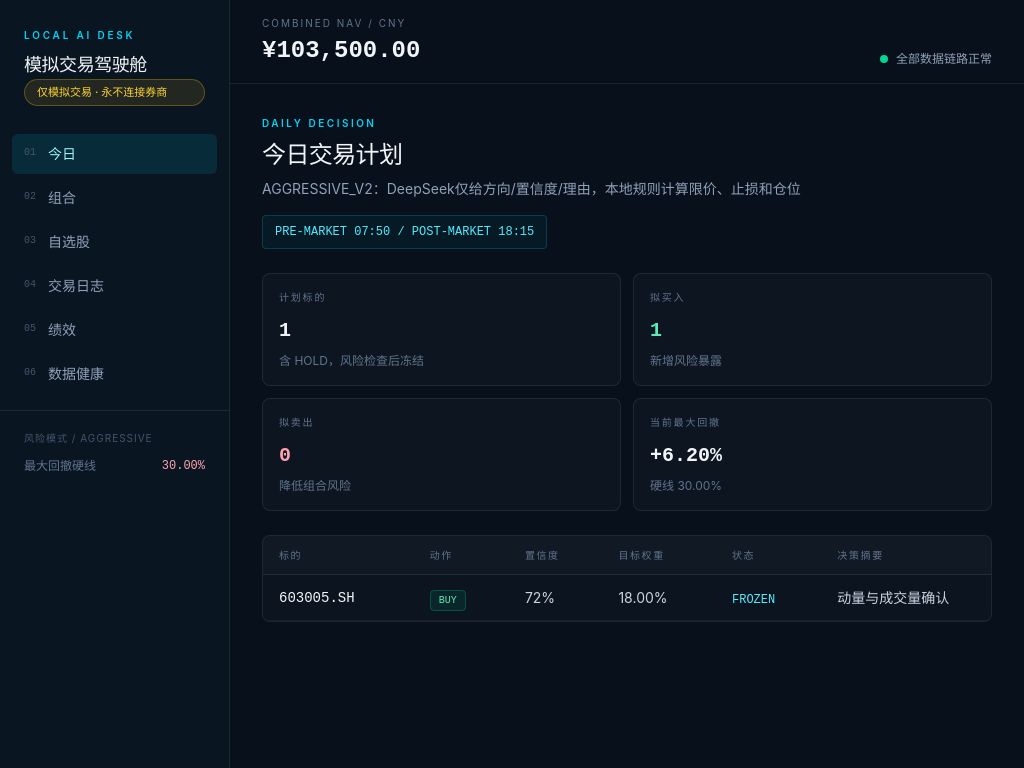
本地模拟交易仪表盘 › 明确模拟交易属性并可切换六个高信息密度视图
Expected: the heading "今日交易计划" is shown, [262, 140, 402, 169]
Expected: the text "AGGRESSIVE_V2：DeepSeek仅给方向/置信度/理由，本地规则计算限价、止损和仓位" is shown, [262, 179, 801, 199]
Click the button "02 组合".
click(114, 198)  # box [12, 178, 217, 218]
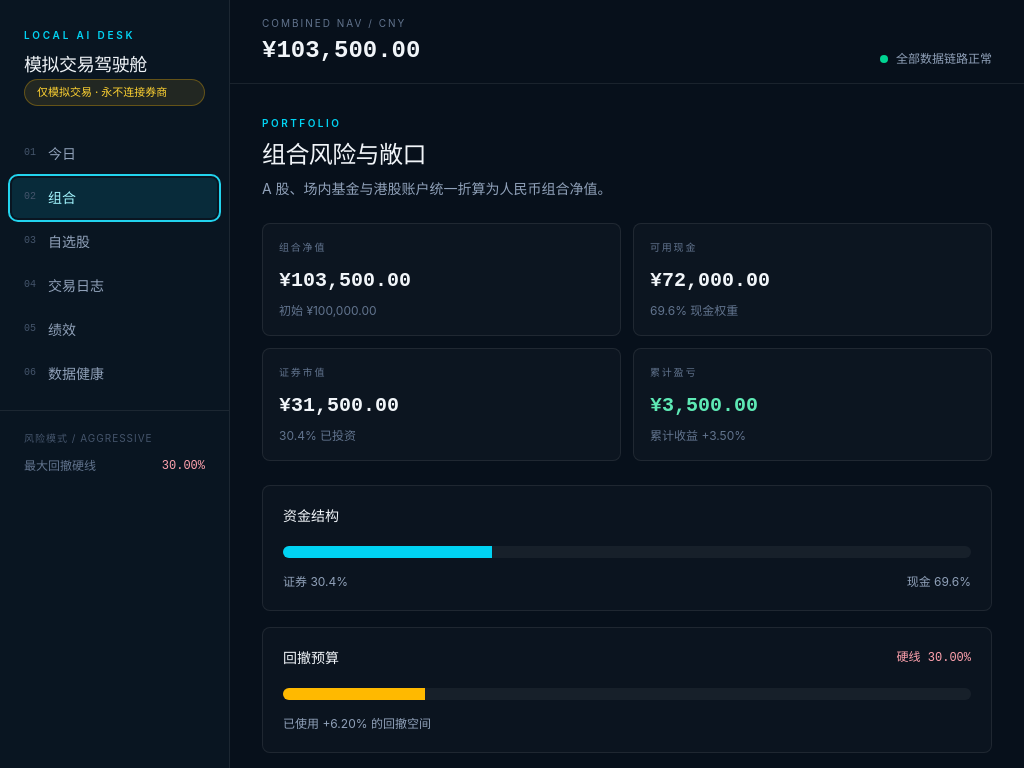
Expected: the heading "组合风险与敞口" is shown, [262, 140, 426, 169]
Click the button "03 自选股".
click(114, 242)  # box [12, 222, 217, 262]
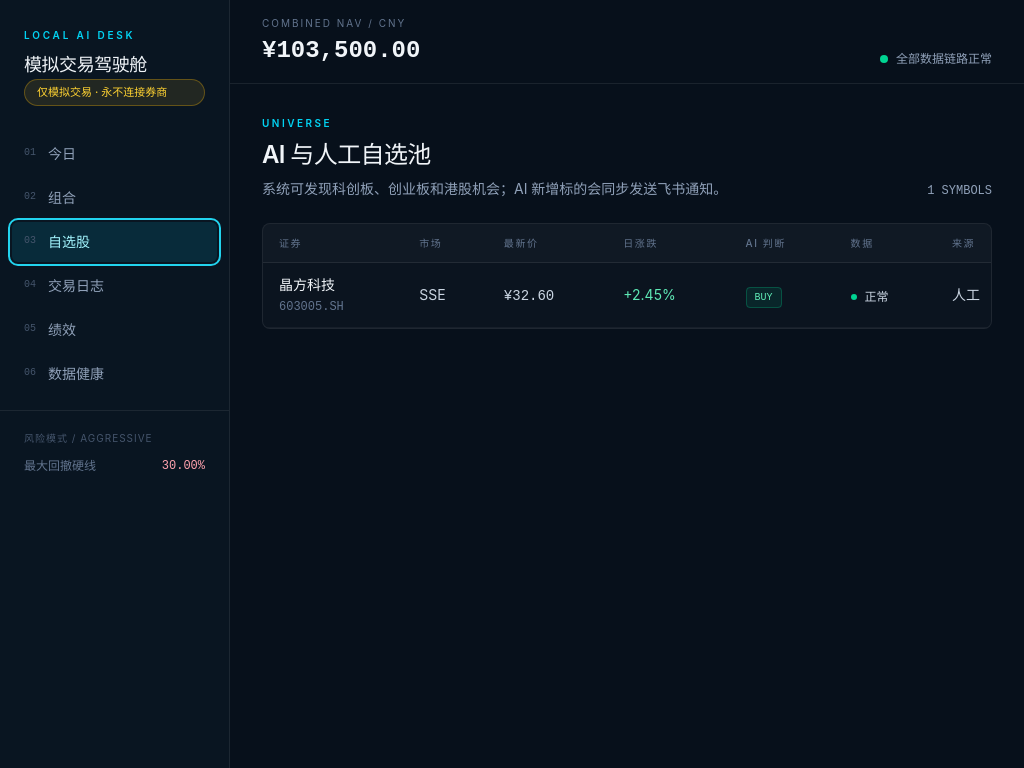
Expected: the heading "AI 与人工自选池" is shown, [262, 140, 431, 169]
Click the button "04 交易日志".
click(114, 286)  # box [12, 266, 217, 306]
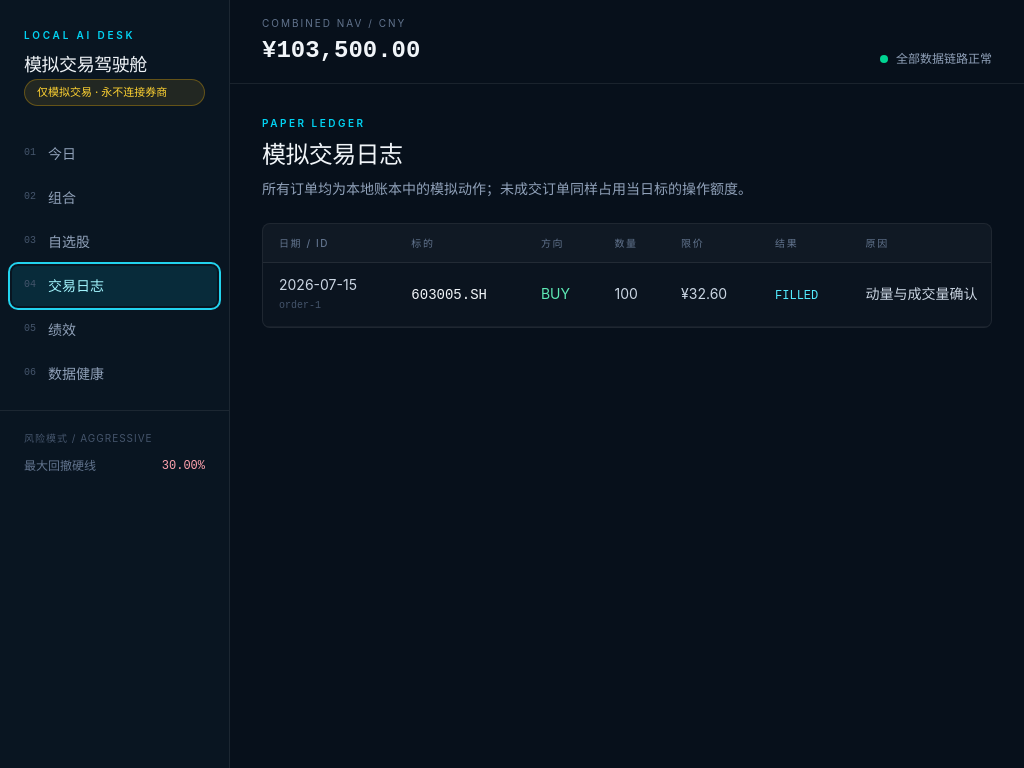
Expected: the heading "模拟交易日志" is shown, [262, 140, 402, 169]
Click the button "05 绩效".
click(114, 330)  # box [12, 310, 217, 350]
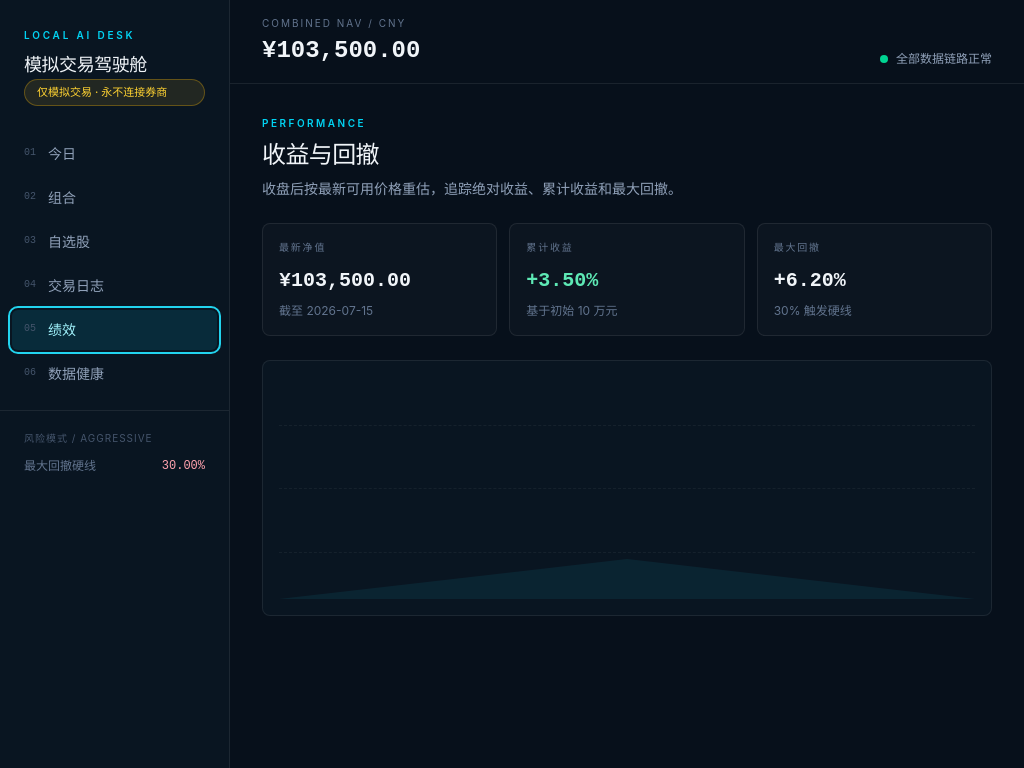
Expected: the heading "收益与回撤" is shown, [262, 140, 379, 169]
Click the button "06 数据健康".
click(114, 374)  # box [12, 354, 217, 394]
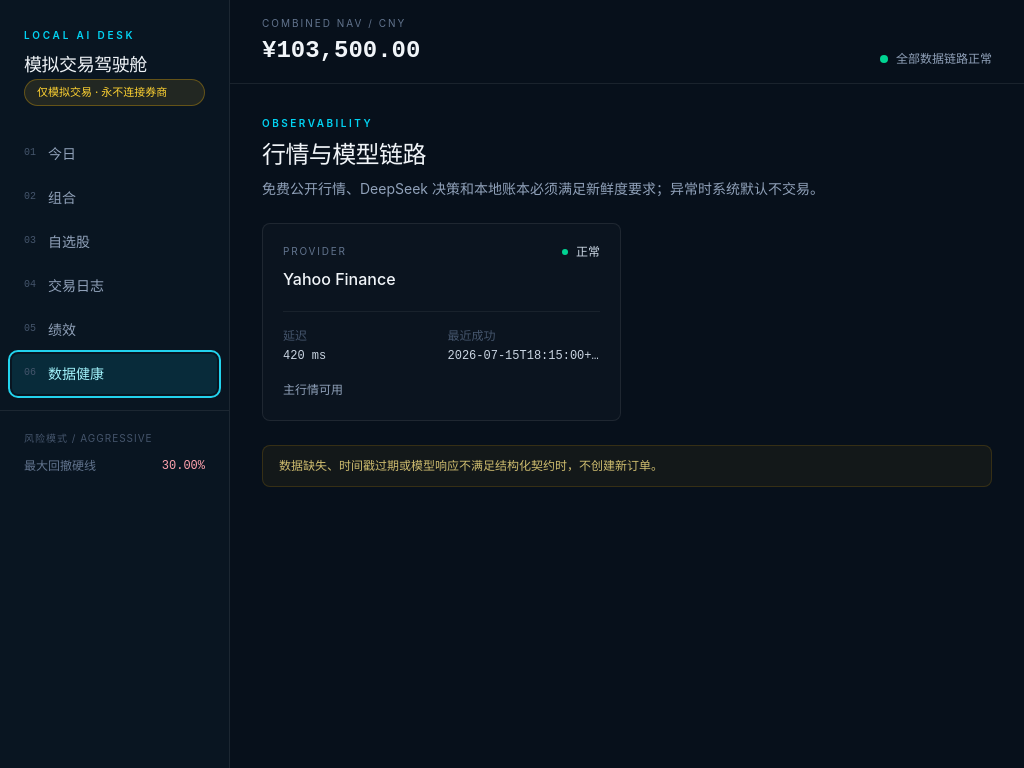
Expected: the heading "行情与模型链路" is shown, [262, 140, 426, 169]
Click the button "01 今日".
click(114, 154)  # box [12, 134, 217, 174]
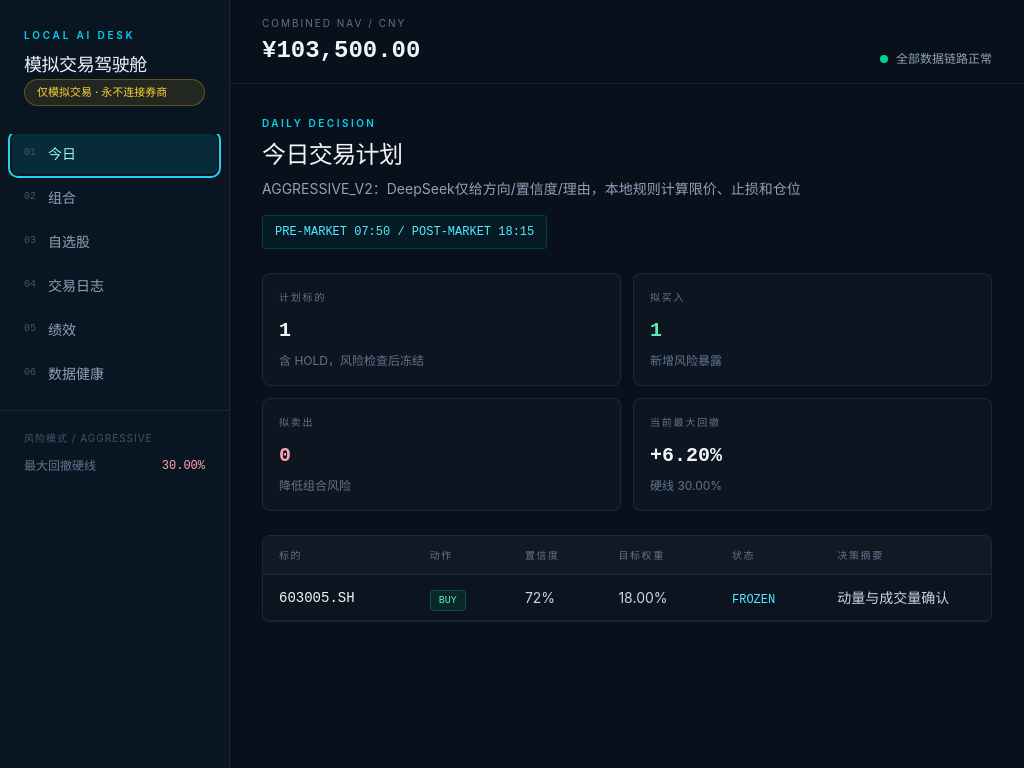
Expected: the heading "今日交易计划" is shown, [262, 140, 402, 169]
